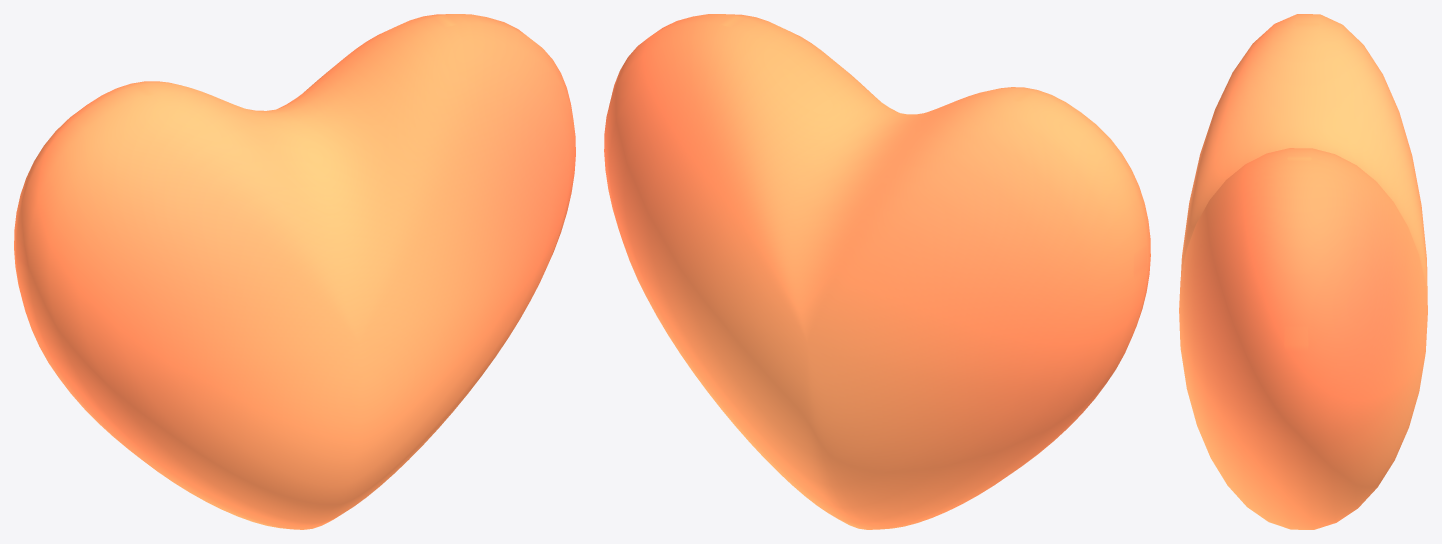
Rendered from heart-peach-volume-v12.glb.
3 renders of one model, left to right at view 1: azimuth 30°, elevation 25°; view 2: azimuth 150°, elevation 25°; view 3: azimuth 270°, elevation 25°, orthographic. The views are drawn at different scales.
Visible parts, largest first — view 1: Heart_Glass; view 2: Heart_Glass; view 3: Heart_Glass.
Boxes of the visible parts, left/top/right/bottom form: Heart_Glass: left=14, top=14, right=575, bottom=529; Heart_Glass: left=604, top=14, right=1150, bottom=529; Heart_Glass: left=1179, top=14, right=1427, bottom=529.
Size of the model in its own units: 0.0801 by 0.0665 by 0.0347.
Materials: 1 (1 with a texture image).
